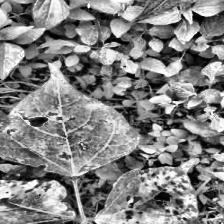ALS: (0, 65, 126, 177), (107, 158, 199, 224), (0, 179, 78, 224)
